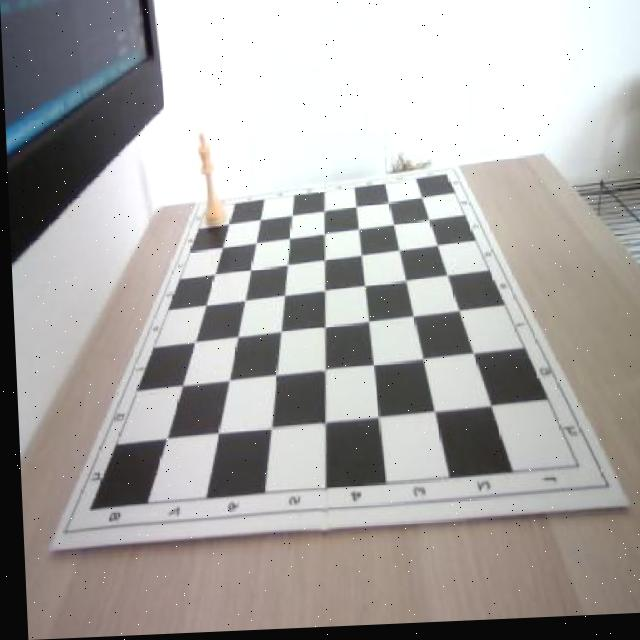white-bishop: (196, 134, 223, 226)
